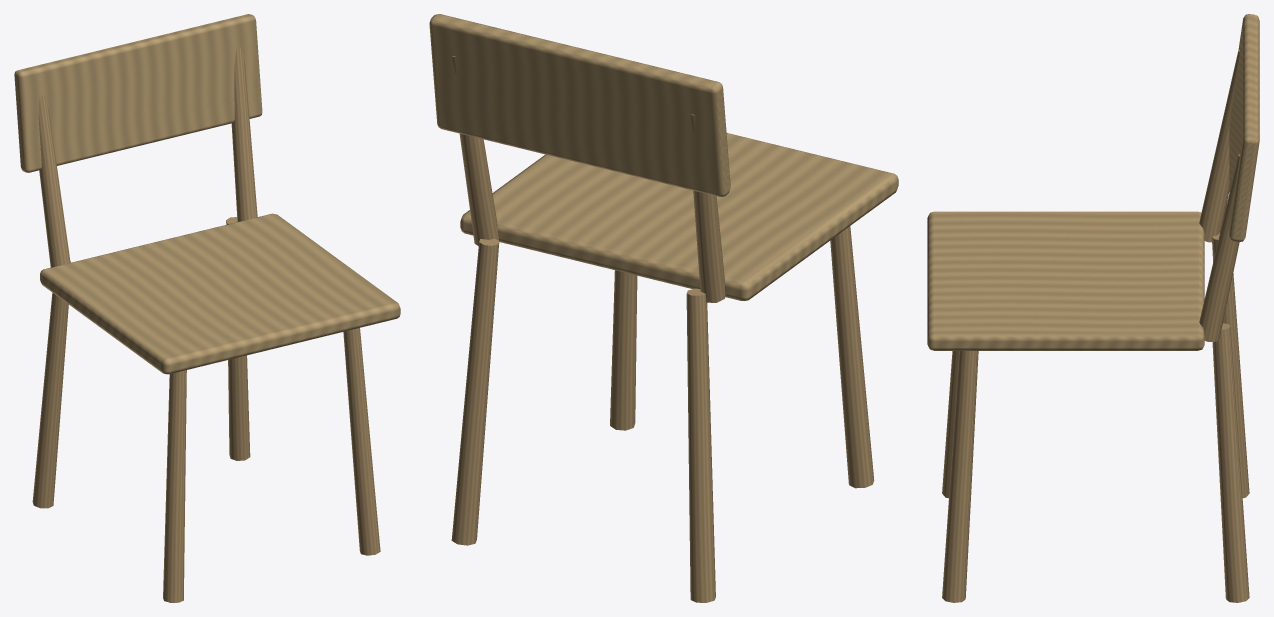
The model's file is lisabo-chair-mobile.glb.
3 views of the same model, side by side, from view 1: azimuth 30°, elevation 25°; view 2: azimuth 150°, elevation 25°; view 3: azimuth 270°, elevation 25° (orthographic). The views are drawn at different scales.
Visible parts, largest first — view 1: LISABO Dining chair; view 2: LISABO Dining chair; view 3: LISABO Dining chair.
Part boxes in pixels (x1,y1,x2,y2): LISABO Dining chair: [14, 14, 400, 602]; LISABO Dining chair: [429, 14, 898, 602]; LISABO Dining chair: [927, 14, 1259, 602].
Bounding box in the file's own units: 0.46 × 0.8 × 0.51.
2 materials, 2 textured.
